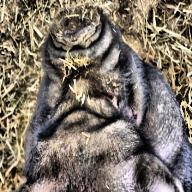boar: (13, 5, 191, 192)
